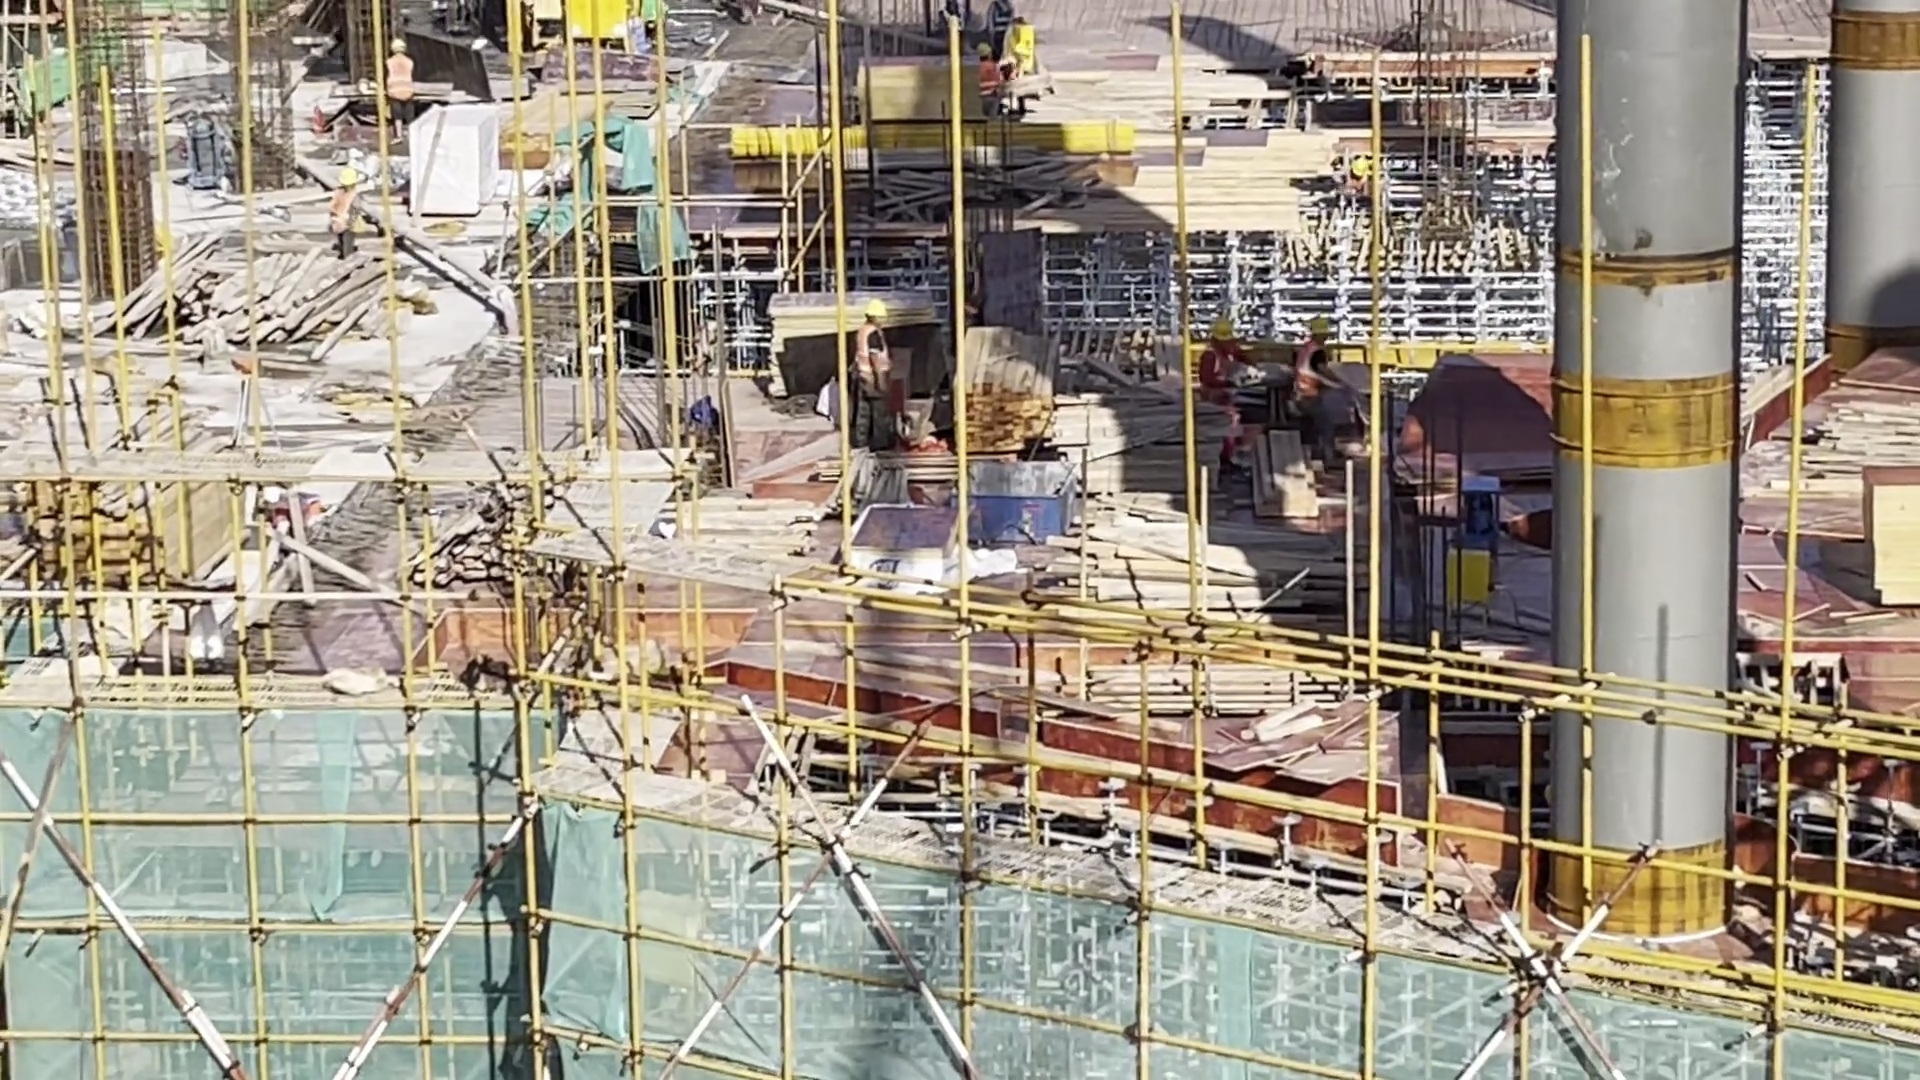board: (765, 287, 897, 405), (854, 56, 968, 133)
helmet: (1208, 314, 1237, 345), (865, 300, 892, 326), (336, 169, 361, 192), (973, 41, 994, 67), (1308, 317, 1328, 342), (1353, 156, 1370, 179), (390, 36, 409, 54)
hopper: (962, 459, 1083, 555)
person: (1194, 311, 1258, 481), (1290, 314, 1343, 467), (855, 297, 894, 468), (377, 33, 425, 156), (327, 166, 368, 270), (1331, 154, 1379, 222), (970, 45, 1005, 129)
vest: (852, 321, 892, 388), (1201, 343, 1242, 407), (1294, 344, 1335, 401), (383, 53, 417, 109), (972, 63, 1006, 106), (988, 1, 1018, 42), (332, 192, 359, 239)
wood: (30, 441, 230, 594), (1070, 519, 1359, 612), (956, 323, 1058, 459)
